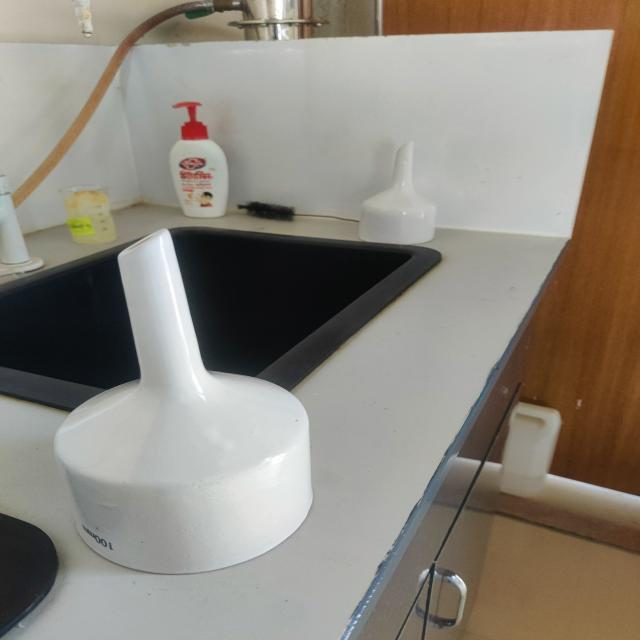Buchner_Funnel: (35, 210, 350, 597)
